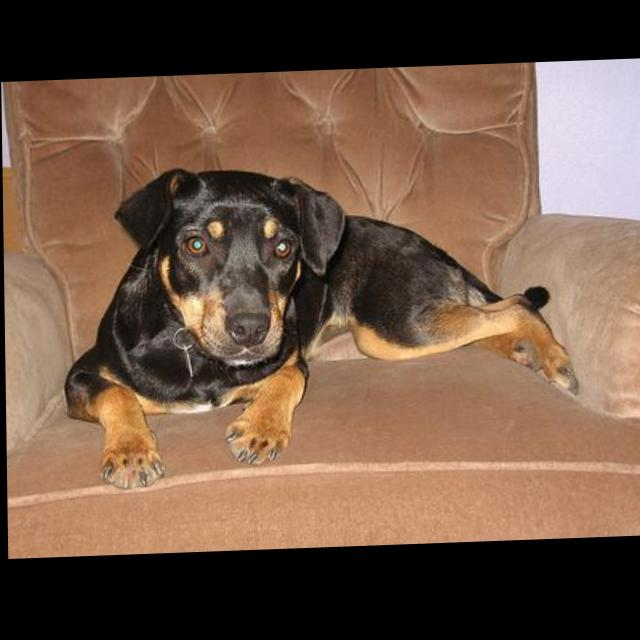rottweiler: (60, 157, 580, 493)
